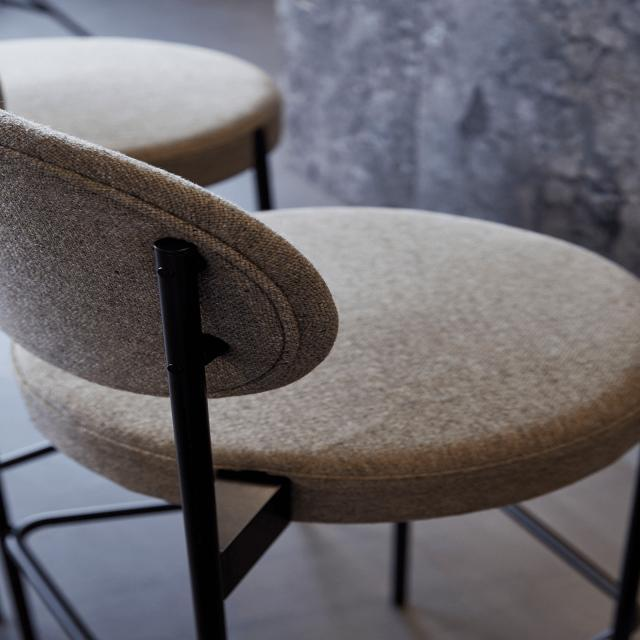chair: (0, 93, 640, 640), (0, 122, 640, 536), (0, 0, 319, 186)
